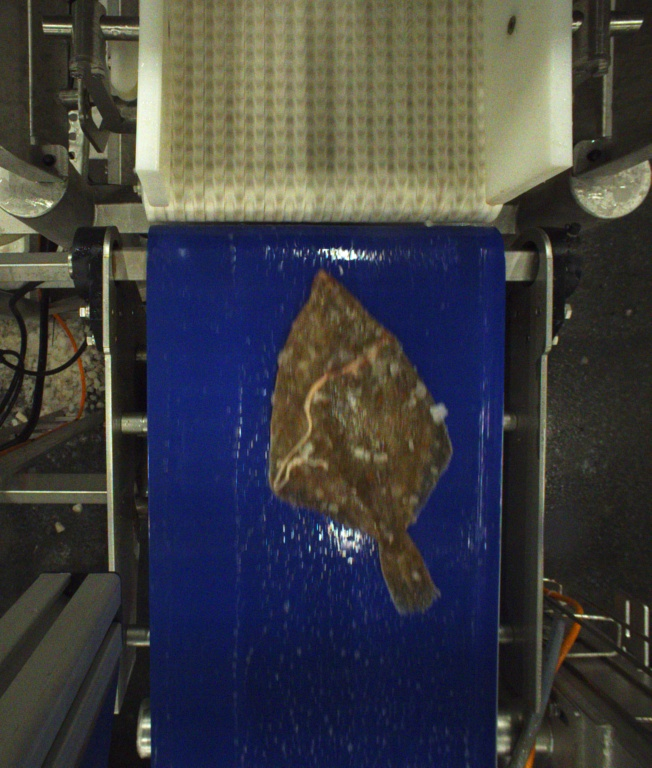PLE: (269, 271, 452, 615)
